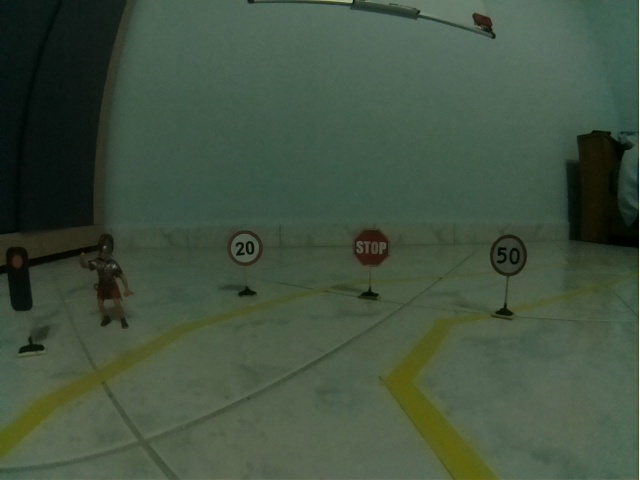Person: (78, 233, 134, 331)
Red Traffic Light: (5, 246, 33, 312)
Speed Limit 20: (228, 230, 263, 267)
Speed Limit 50: (489, 234, 528, 277)
Stop: (353, 229, 390, 267)
